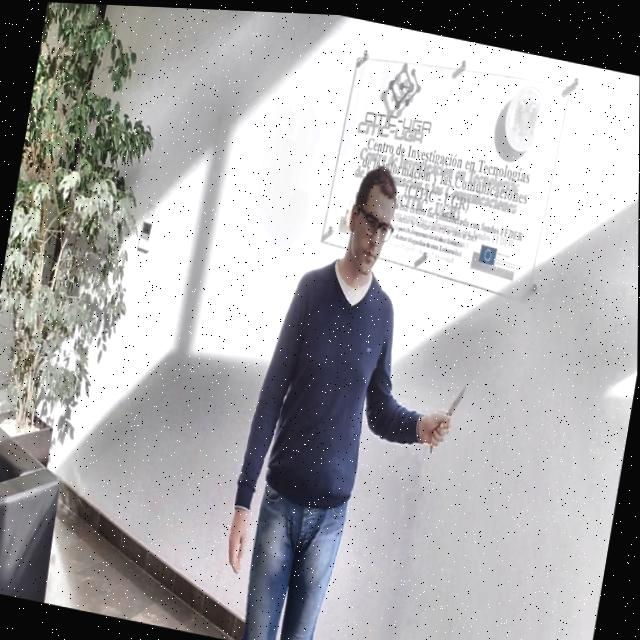knife: (446, 376, 466, 418)
